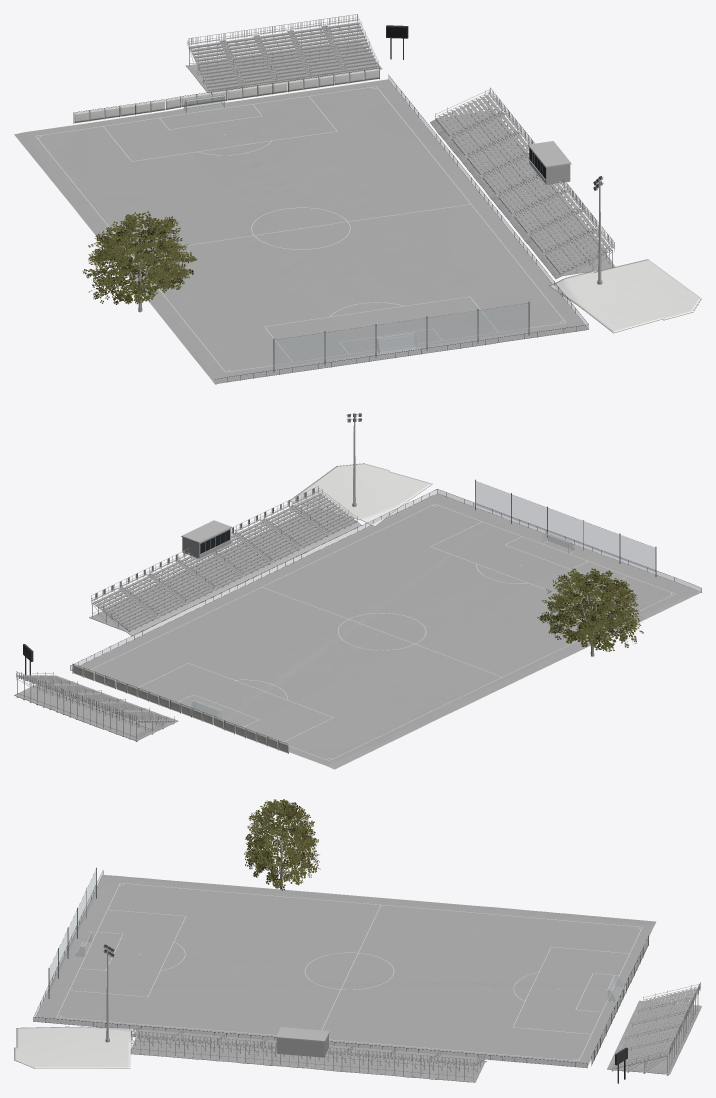
3 views of the same model, one above another, from view 1: azimuth 30°, elevation 25°; view 2: azimuth 150°, elevation 25°; view 3: azimuth 270°, elevation 25° (orthographic). The views are drawn at different scales.
Parts seen in each view (by area): view 1: fs_turf, fr_stand_entry_steps, fs_goal_nets, fr_stand_risers, fr_stand_seating, NT_RedMaple_0155, North_NEPlaza_gi, fr_stand_under_pad, fu_windscreen, fr_stand_rails, fs_lines, ft_fence_posts_rails (+1 smaller); view 2: fs_turf, fs_goal_nets, fr_stand_under_pad, fr_stand_risers, fr_stand_entry_steps, NT_RedMaple_0155, fr_stand_seating, North_NEPlaza_gi, fr_stand_rails, fs_lines, fu_windscreen, fse_press_box (+1 smaller); view 3: fs_turf, fr_stand_under_pad, NT_RedMaple_0155, North_NEPlaza_gi, fs_goal_nets, fr_stand_seating, fr_stand_entry_steps, fr_stand_risers, fr_stand_rails, fs_lines, fse_press_box, ft_fence_posts_rails (+1 smaller).
Part boxes in pixels (x1=…): fs_turf: x1=14, y1=79, x2=588, y2=384; fr_stand_entry_steps: x1=189, y1=22, x2=611, y2=273; fs_goal_nets: x1=184, y1=75, x2=588, y2=384; fr_stand_risers: x1=189, y1=23, x2=612, y2=274; fr_stand_seating: x1=188, y1=19, x2=613, y2=270; NT_RedMaple_0155: x1=82, y1=211, x2=197, y2=312; North_NEPlaza_gi: x1=549, y1=259, x2=701, y2=333; fr_stand_under_pad: x1=185, y1=42, x2=615, y2=278; fu_windscreen: x1=74, y1=68, x2=379, y2=122; fr_stand_rails: x1=187, y1=14, x2=614, y2=271; fs_lines: x1=35, y1=86, x2=565, y2=372; ft_fence_posts_rails: x1=73, y1=68, x2=588, y2=384; fs_turf: x1=70, y1=493, x2=701, y2=769; fs_goal_nets: x1=70, y1=481, x2=701, y2=718; fr_stand_under_pad: x1=14, y1=508, x2=361, y2=741; fr_stand_risers: x1=17, y1=494, x2=356, y2=739; fr_stand_entry_steps: x1=18, y1=493, x2=356, y2=721; NT_RedMaple_0155: x1=537, y1=568, x2=643, y2=656; fr_stand_seating: x1=17, y1=491, x2=354, y2=719; North_NEPlaza_gi: x1=290, y1=463, x2=432, y2=526; fr_stand_rails: x1=16, y1=486, x2=357, y2=724; fs_lines: x1=90, y1=504, x2=675, y2=760; fu_windscreen: x1=73, y1=664, x2=288, y2=753; fse_press_box: x1=181, y1=520, x2=231, y2=558; fs_turf: x1=34, y1=875, x2=656, y2=1067; fr_stand_under_pad: x1=130, y1=1000, x2=701, y2=1082; NT_RedMaple_0155: x1=244, y1=799, x2=320, y2=890; North_NEPlaza_gi: x1=14, y1=1026, x2=132, y2=1068; fs_goal_nets: x1=33, y1=870, x2=623, y2=1067; fr_stand_seating: x1=132, y1=987, x2=697, y2=1065; fr_stand_entry_steps: x1=131, y1=988, x2=697, y2=1068; fr_stand_risers: x1=131, y1=990, x2=698, y2=1080; fr_stand_rails: x1=130, y1=982, x2=700, y2=1068; fs_lines: x1=56, y1=883, x2=642, y2=1060; fse_press_box: x1=276, y1=1027, x2=329, y2=1057; ft_fence_posts_rails: x1=33, y1=867, x2=648, y2=1067.
Bounding box in the file's own units: 109 × 23.38 × 142.
25 materials, 1 textured.
